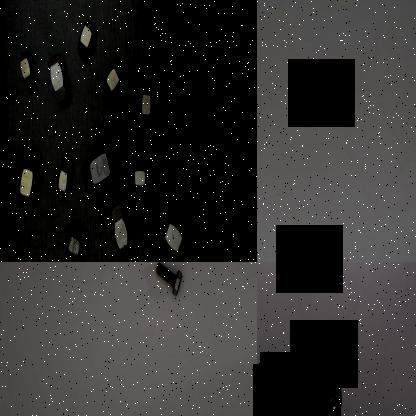Bolts: (153, 262, 183, 302)
NUTS: (81, 140, 119, 196), (14, 152, 41, 214), (106, 200, 134, 254), (154, 209, 186, 255), (46, 51, 72, 107), (136, 74, 160, 122), (98, 56, 122, 102), (74, 12, 95, 61), (58, 228, 89, 260), (319, 376, 343, 416), (54, 157, 74, 204), (17, 48, 38, 92), (124, 160, 154, 190), (136, 0, 160, 18), (262, 395, 280, 416)
